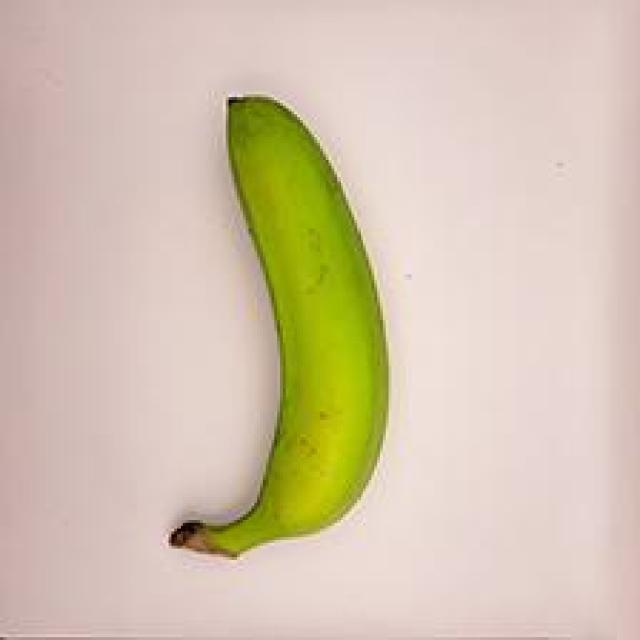Unripe: (124, 63, 428, 565)
